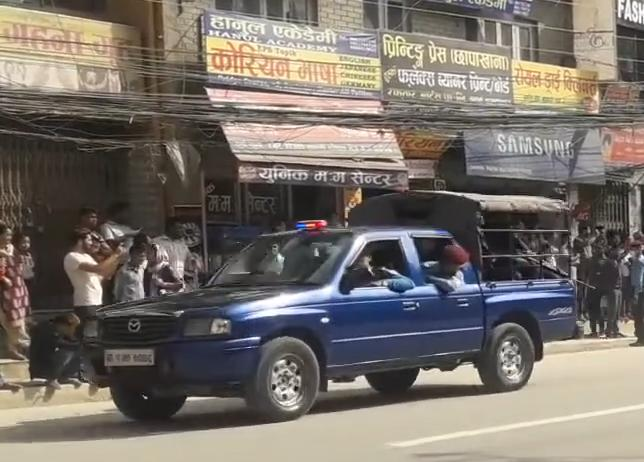police_vehicle: (76, 172, 580, 422)
